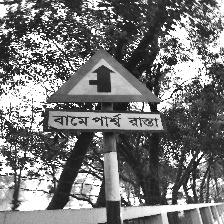Side-road-left: (44, 48, 166, 136)
